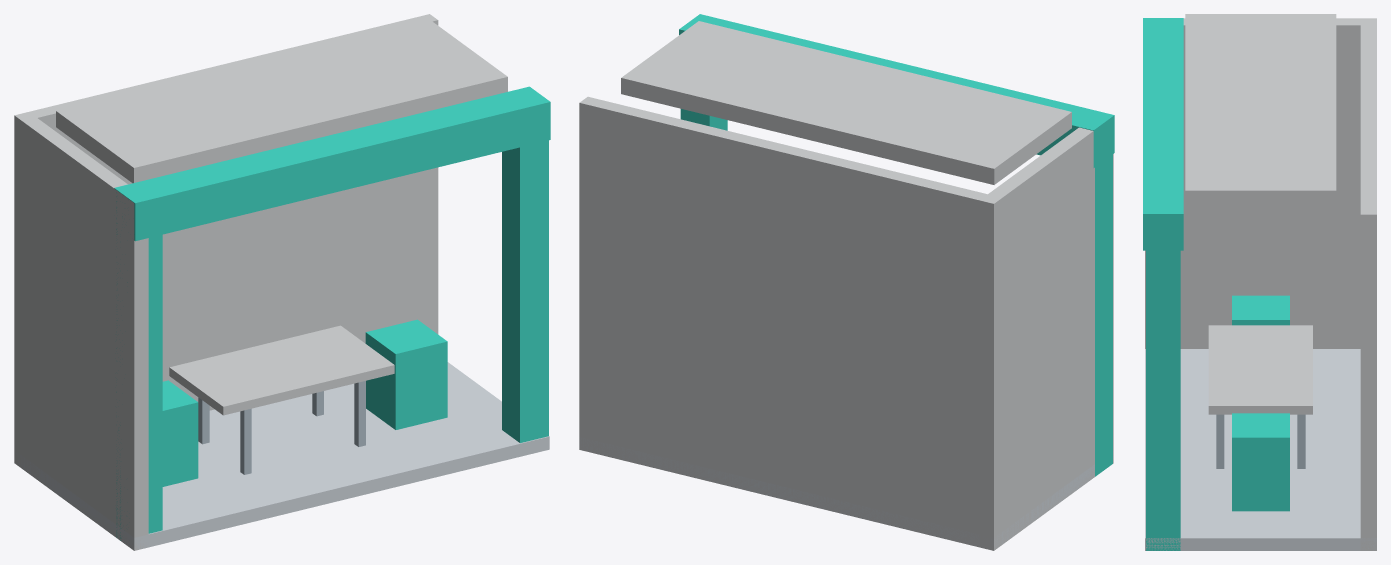
3 views of the same model, side by side, from view 1: azimuth 30°, elevation 25°; view 2: azimuth 150°, elevation 25°; view 3: azimuth 270°, elevation 25° (orthographic). The views are drawn at different scales.
Parts seen in each view (by area): view 1: Exhibition Booth Concept; view 2: Exhibition Booth Concept; view 3: Exhibition Booth Concept.
Part boxes in pixels (x1,y1,x2,y2): Exhibition Booth Concept: (14, 14, 550, 550); Exhibition Booth Concept: (579, 14, 1114, 550); Exhibition Booth Concept: (1143, 14, 1376, 550).
Size of the model in its own units: 4 by 3.34 by 2.01.
